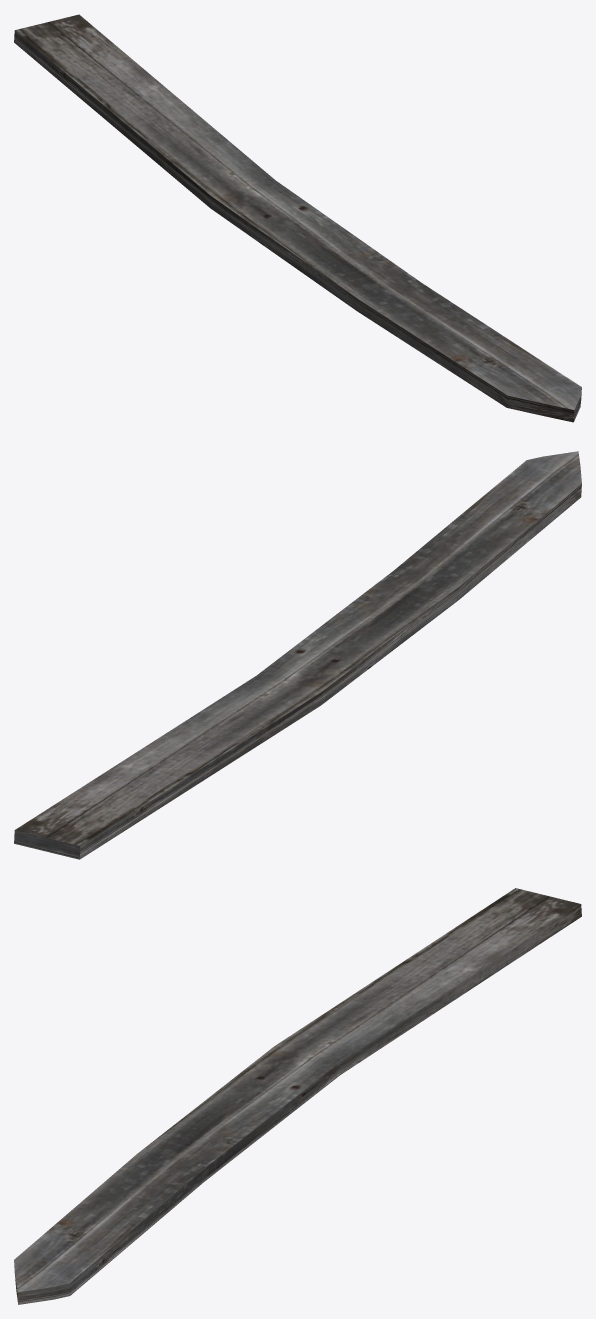
Rendered from plank1.obj.
The picture shows the model from 3 angles, top to bottom: view 1: azimuth 30°, elevation 25°; view 2: azimuth 150°, elevation 25°; view 3: azimuth 330°, elevation 25°; orthographic projection.
Visible parts, largest first — view 1: planks; view 2: planks; view 3: planks.
Part boxes in pixels (left/top/right/bottom): planks: left=14, top=14, right=581, bottom=422; planks: left=14, top=451, right=581, bottom=859; planks: left=14, top=888, right=581, bottom=1304.
Bounding box in the file's own units: 15.53 × 3.06 × 166.
Materials: 1 (1 with a texture image).
